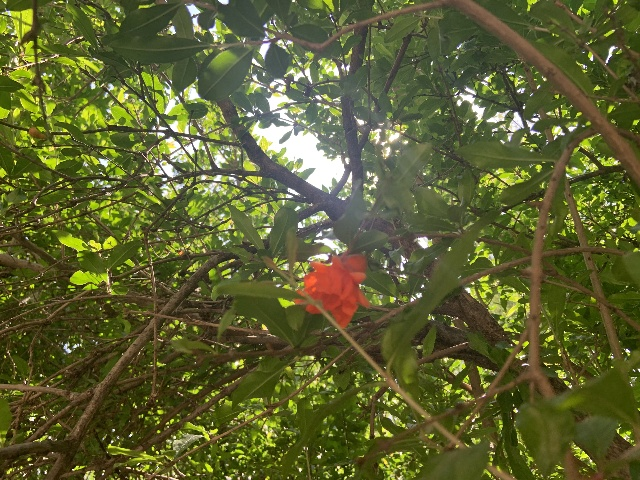bud: (29, 126, 45, 139)
flower: (293, 252, 368, 327)
